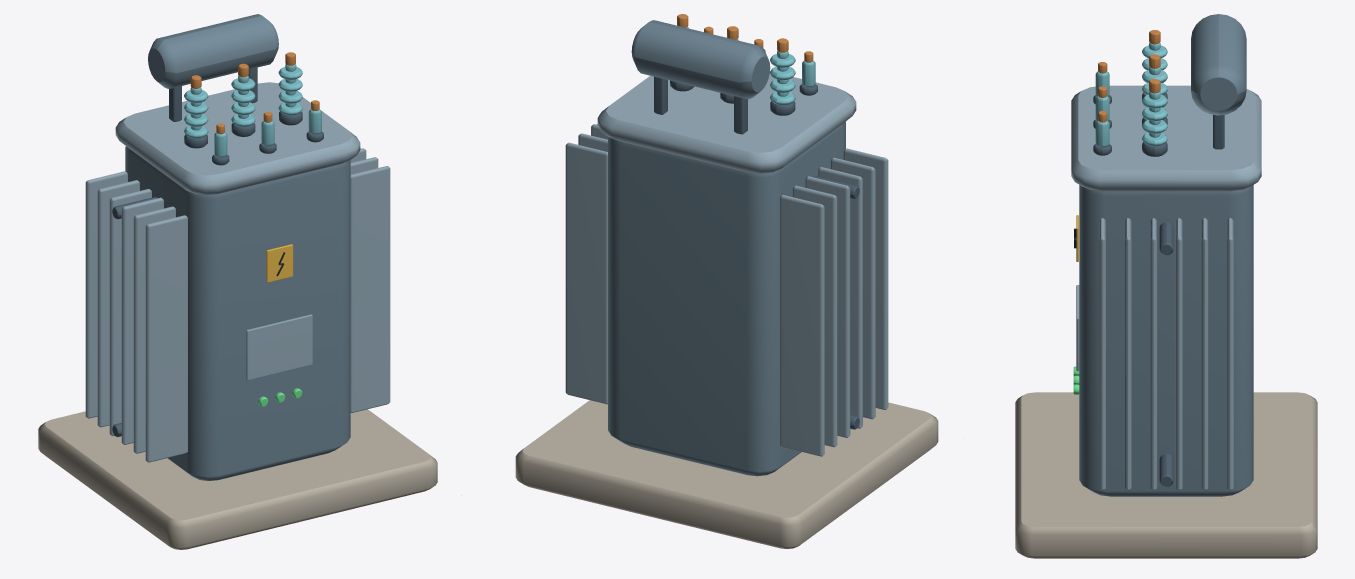
The model's file is transformateur.glb.
3 views of the same model, side by side, from view 1: azimuth 30°, elevation 25°; view 2: azimuth 150°, elevation 25°; view 3: azimuth 270°, elevation 25° (orthographic). The views are drawn at different scales.
Parts seen in each view (by area): view 1: pieces_transfo_clair.002, pieces_transfo.002, pieces_socle_beton.006, pieces_isolateur_verre.008, pieces_transfo_sombre.002, pieces_panneau_jaune.004, pieces_isolateur_cuivre.008; view 2: pieces_transfo.002, pieces_transfo_clair.002, pieces_socle_beton.006, pieces_transfo_sombre.002, pieces_isolateur_verre.008, pieces_isolateur_cuivre.008; view 3: pieces_transfo.002, pieces_socle_beton.006, pieces_transfo_clair.002, pieces_isolateur_verre.008, pieces_transfo_sombre.002, pieces_isolateur_cuivre.008.
Boxes of the visible parts, x1=… form: pieces_transfo_clair.002: x1=85, y1=82, x2=390, y2=462; pieces_transfo.002: x1=125, y1=14, x2=350, y2=480; pieces_socle_beton.006: x1=38, y1=409, x2=437, y2=549; pieces_isolateur_verre.008: x1=184, y1=64, x2=321, y2=157; pieces_transfo_sombre.002: x1=112, y1=67, x2=360, y2=437; pieces_panneau_jaune.004: x1=266, y1=244, x2=293, y2=282; pieces_isolateur_cuivre.008: x1=190, y1=52, x2=319, y2=134; pieces_transfo.002: x1=608, y1=20, x2=845, y2=476; pieces_transfo_clair.002: x1=565, y1=73, x2=888, y2=456; pieces_socle_beton.006: x1=515, y1=400, x2=938, y2=548; pieces_transfo_sombre.002: x1=597, y1=76, x2=859, y2=429; pieces_isolateur_verre.008: x1=686, y1=26, x2=815, y2=105; pieces_isolateur_cuivre.008: x1=677, y1=14, x2=813, y2=62; pieces_transfo.002: x1=1079, y1=14, x2=1253, y2=496; pieces_socle_beton.006: x1=1015, y1=392, x2=1317, y2=558; pieces_transfo_clair.002: x1=1071, y1=85, x2=1261, y2=490; pieces_isolateur_verre.008: x1=1095, y1=42, x2=1167, y2=146; pieces_transfo_sombre.002: x1=1093, y1=93, x2=1224, y2=486; pieces_isolateur_cuivre.008: x1=1098, y1=30, x2=1160, y2=122.
Size of the model in its own units: 1.5 by 2.14 by 1.5.
